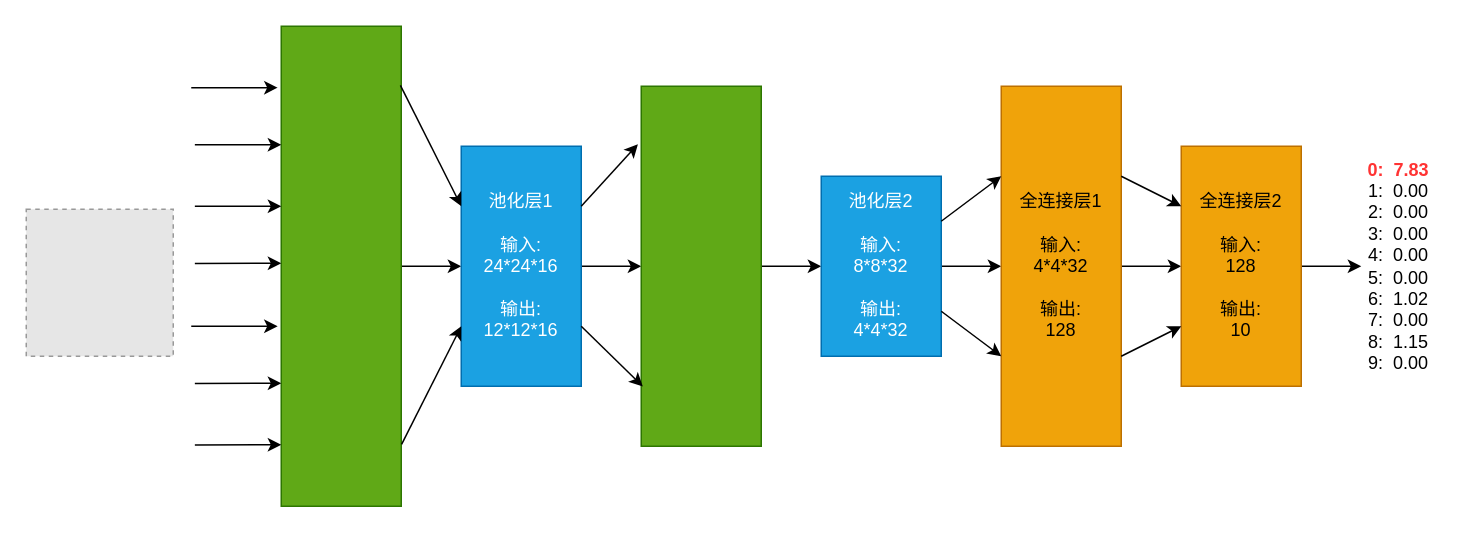
The diagram is 1478 pixels wide and 533 high, and some of its shapes have lost their labels. Grey dashed boxes stand in for pictures. Here are the shapes that lost their labels. From the top down, the box of each, then its label:
(280, 25, 401, 506): 卷积层1 输入: 28*28*1 输出: 24*24*16
(640, 85, 761, 446): 卷积层2 输入: 12*12*16 输出: 8*8*32
